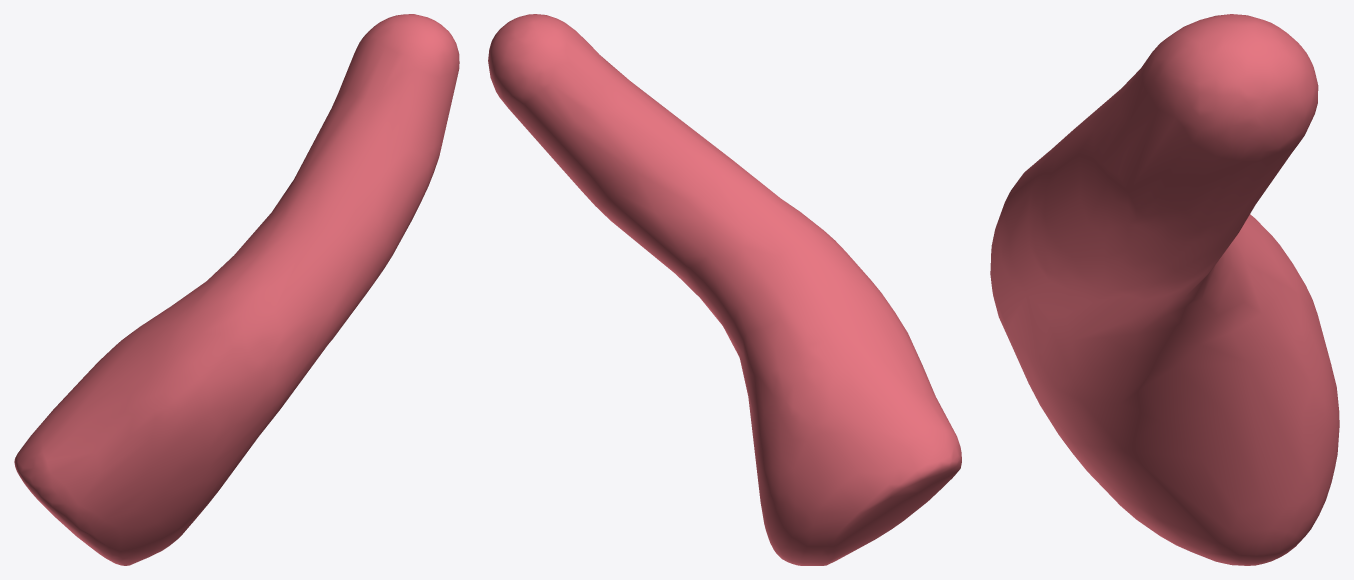
The model's file is fma4761.glb.
3 views of the same model, side by side, from view 1: azimuth 30°, elevation 25°; view 2: azimuth 150°, elevation 25°; view 3: azimuth 270°, elevation 25° (orthographic). The views are drawn at different scales.
Visible parts, largest first — view 1: FMA4761; view 2: FMA4761; view 3: FMA4761.
Boxes of the visible parts, x1=… form: FMA4761: x1=14, y1=14, x2=459, y2=565; FMA4761: x1=488, y1=14, x2=961, y2=565; FMA4761: x1=990, y1=14, x2=1339, y2=565.
Size of the model in its own units: 0.0519 by 0.0522 by 0.022.
